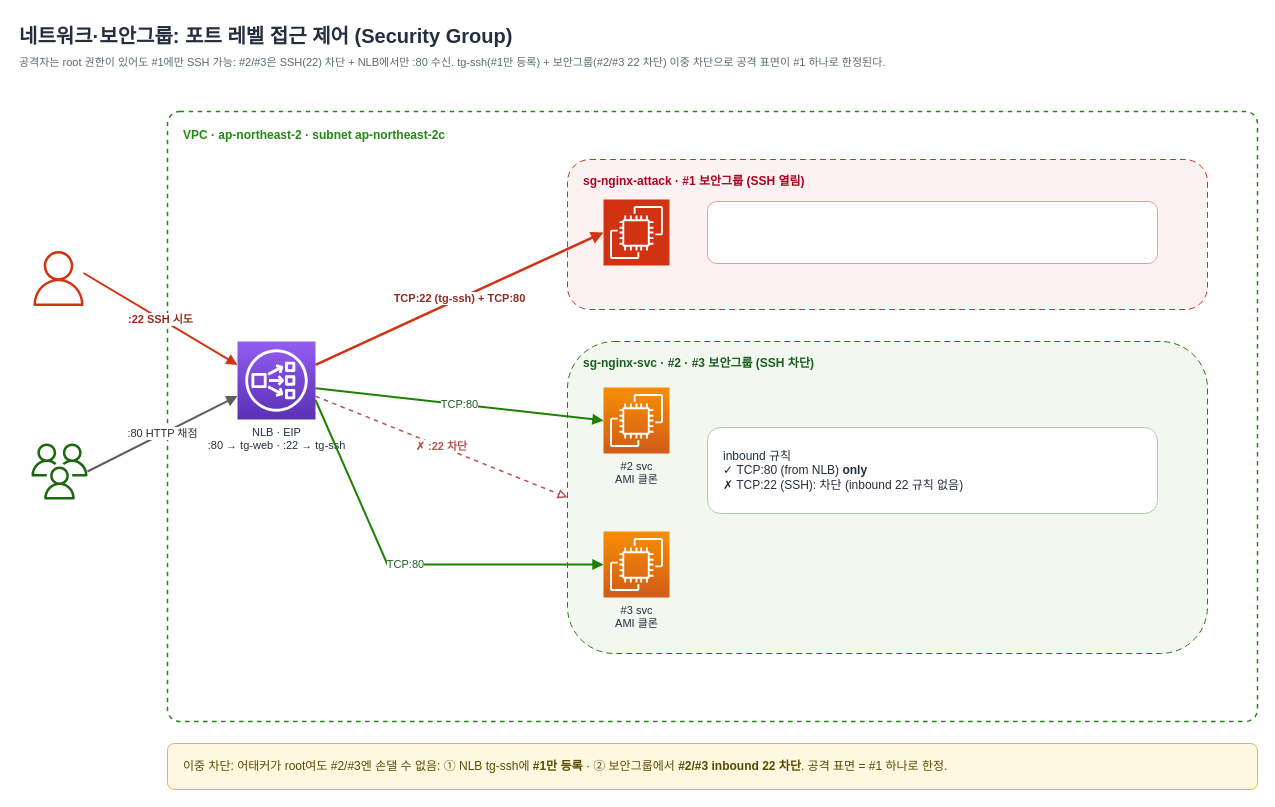
This 1275x807 diagram has some shape labels left out. The shapes that lost their labels are listed below. From the top down, each one's centre as x and y in pixels, then its label:
the point at 636,232: #1 nginx 어태커 진입점
the point at 932,232: inbound 규칙 ✓ TCP:22 (SSH) · ✓ TCP:80 (from NLB)
the point at 58,278: 어태커 (교수님) SSH :22
the point at 59,471: 채점 봇 HTTP :80
